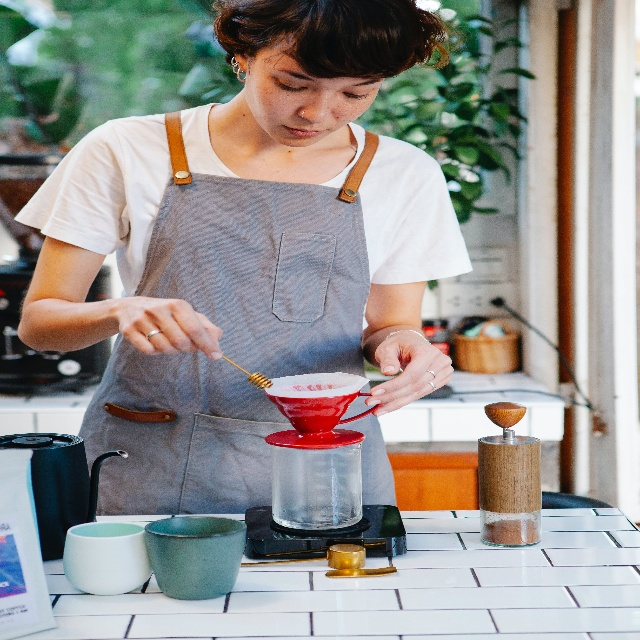Sin_guantes: (364, 329, 455, 417), (117, 297, 223, 361)
